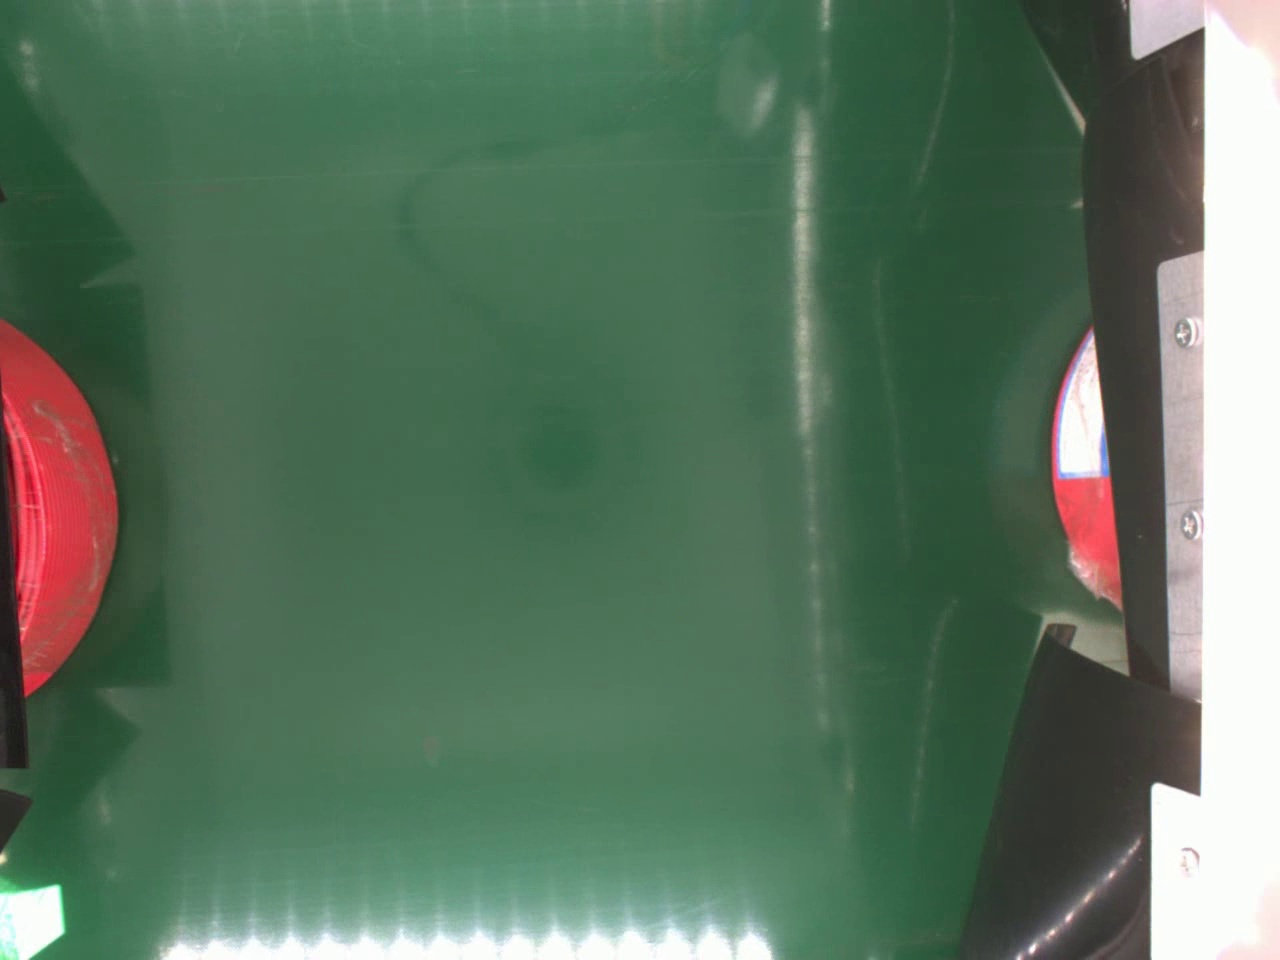red: (0, 313, 115, 697)
